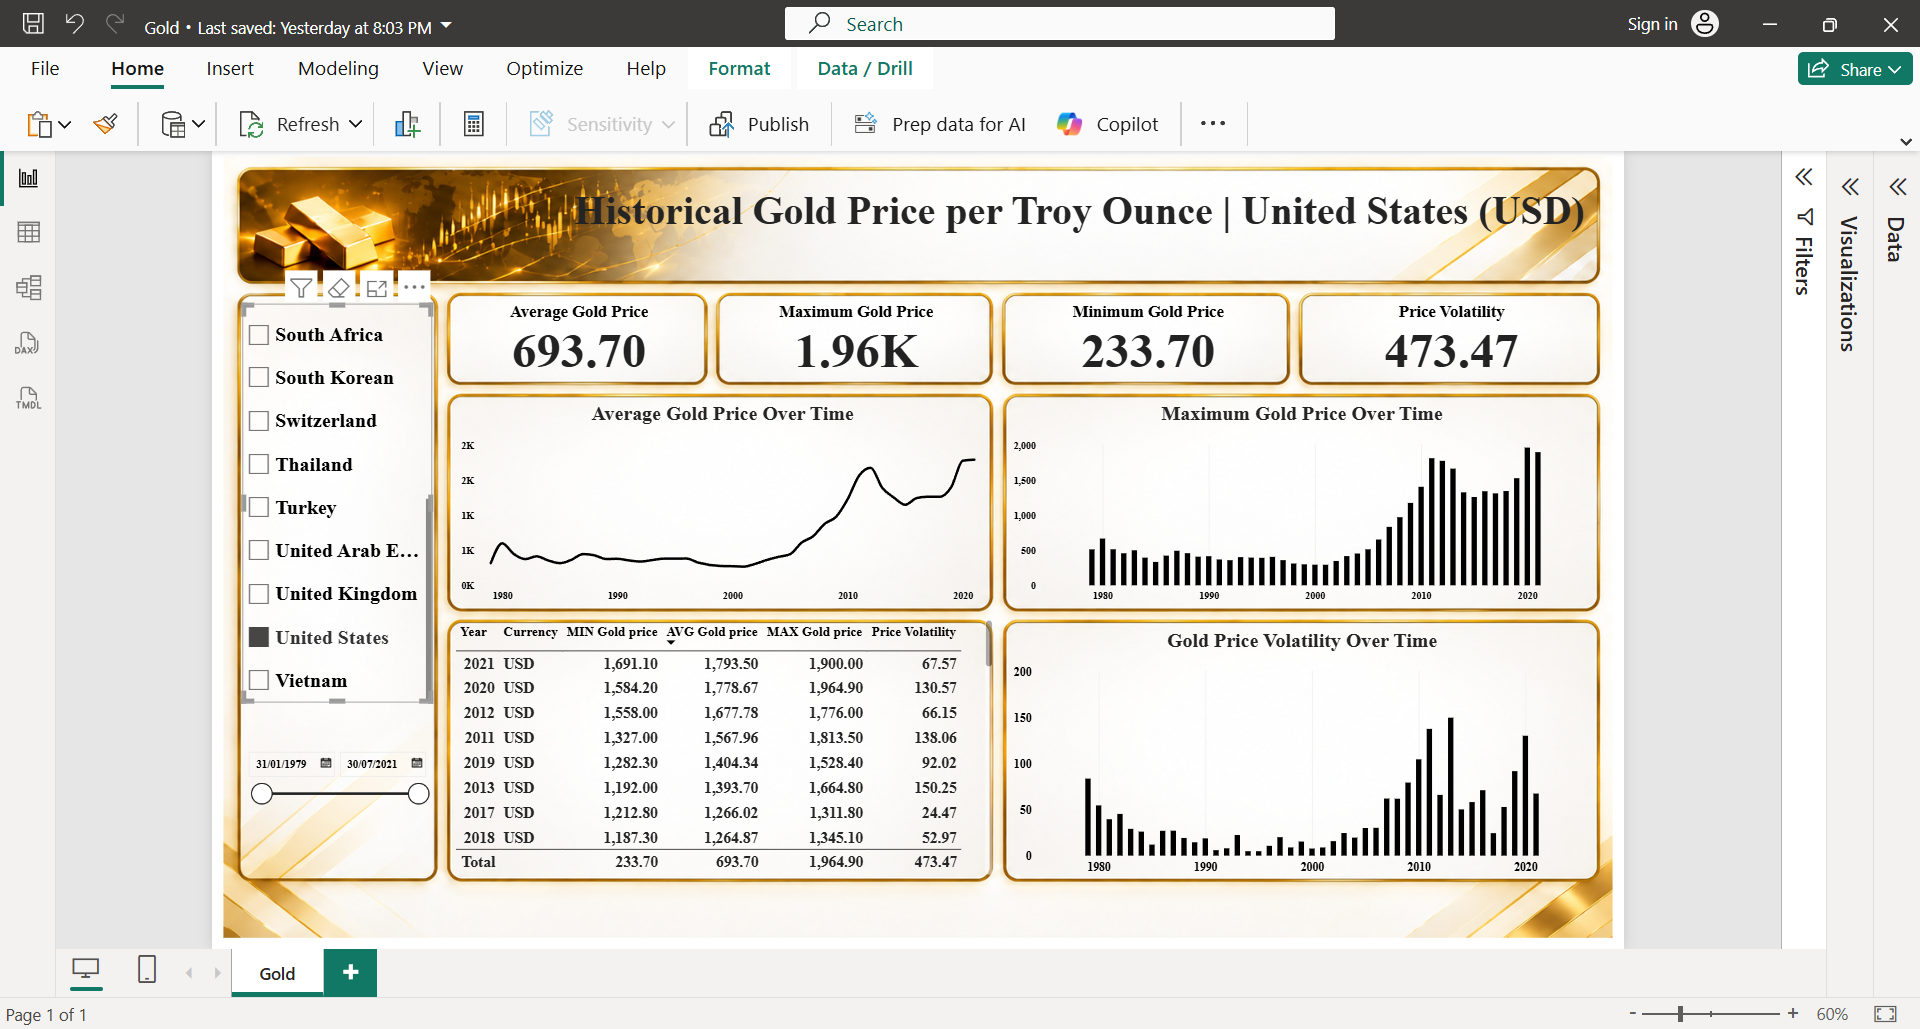

What the dashboard file says about the page in this screenshot:
{"tool":"powerbi","page":{"name":"Page 1","canvas":[1700,960],"ordinal":0},"visuals":[{"type":"cardVisual","fields":{"Data":["1979-2021.AVG Gold price"]},"box":[286.1,172.1,311.5,114.1],"z":0},{"type":"cardVisual","fields":{"Data":["1979-2021.MAX Gold price"]},"box":[610.3,172.1,329.6,114.1],"z":1000},{"type":"cardVisual","fields":{"Data":["1979-2021.MIN Gold price"]},"box":[952.6,172.1,347.7,114.1],"z":2000},{"type":"cardVisual","fields":{"Data":["1979-2021.Price Volatility"]},"box":[1314.8,172.1,356.8,114.1],"z":3000},{"type":"lineChart","title":"Average Gold Price Over Time","fields":{"Category":["1979-2021.Date.Variation.Date Hierarchy.Year","1979-2021.Date.Variation.Date Hierarchy.Quarter","1979-2021.Date.Variation.Date Hierarchy.Month","1979-2021.Date.Variation.Date Hierarchy.Day"],"Y":["1979-2021.AVG Gold price"]},"box":[300,302.2,630,243.3],"z":4000},{"type":"slicer","fields":{"Values":["1979-2021.Country"]},"box":[36.4,184.1,229,479.5],"z":5000},{"type":"clusteredColumnChart","title":"Gold Price Volatility Over Time","fields":{"Category":["1979-2021.Date.Variation.Date Hierarchy.Year","1979-2021.Date.Variation.Date Hierarchy.Quarter","1979-2021.Date.Variation.Date Hierarchy.Month","1979-2021.Date.Variation.Date Hierarchy.Day"],"Y":["1979-2021.Price Volatility"]},"box":[964.3,575.7,694.3,297.1],"z":6000},{"type":"tableEx","fields":{"Values":["1979-2021.Date.Variation.Date Hierarchy.Year","1979-2021.Currency","1979-2021.MIN Gold price","1979-2021.AVG Gold price","1979-2021.MAX Gold price","1979-2021.Price Volatility"]},"box":[293.3,565,646.7,306.7],"z":7000},{"type":"slicer","fields":{"Values":["1979-2021.Date"]},"box":[36.7,718.3,228.3,93.3],"z":8000},{"type":"clusteredColumnChart","title":"Maximum Gold Price Over Time","fields":{"Category":["1979-2021.Date.Variation.Date Hierarchy.Year","1979-2021.Date.Variation.Date Hierarchy.Quarter","1979-2021.Date.Variation.Date Hierarchy.Month","1979-2021.Date.Variation.Date Hierarchy.Day"],"Y":["1979-2021.MAX Gold price"]},"box":[964.3,302.9,694.3,242.9],"z":9000},{"type":"textbox","box":[415,45,1257.5,127.5],"z":10000}]}

Visuals, with their boxes on the page's 1700x960 design canvas (x1, y1, x2, y2). These are canvas units, not pixel positions in the 1920x1029 screenshot, which may show the page scaled, cropped or inside an application window:
cardVisual - 1979-2021.AVG Gold price: 286,172,598,286
cardVisual - 1979-2021.MAX Gold price: 610,172,940,286
cardVisual - 1979-2021.MIN Gold price: 953,172,1300,286
cardVisual - 1979-2021.Price Volatility: 1315,172,1672,286
"Average Gold Price Over Time" lineChart: 300,302,930,546
slicer - 1979-2021.Country: 36,184,265,664
"Gold Price Volatility Over Time" clusteredColumnChart: 964,576,1659,873
tableEx - 1979-2021.Date.Variation.Date Hierarchy.Year x 1979-2021.Currency: 293,565,940,872
slicer - 1979-2021.Date: 37,718,265,812
"Maximum Gold Price Over Time" clusteredColumnChart: 964,303,1659,546
textbox: 415,45,1672,172
